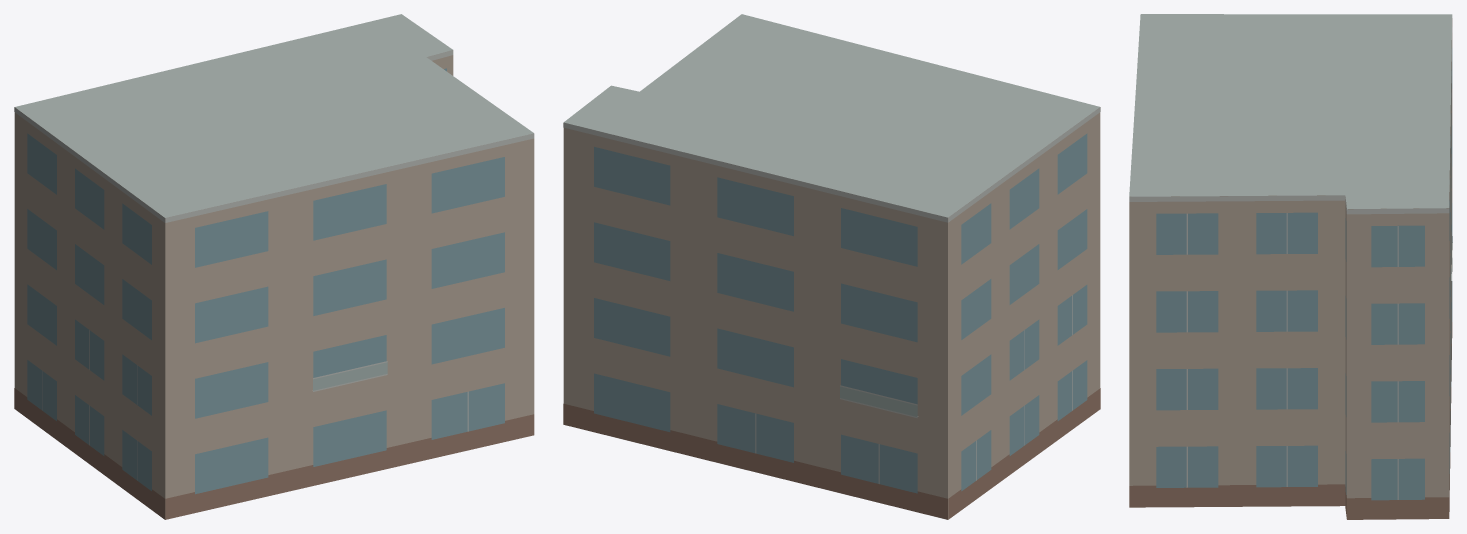
The model's file is survey-upis-32815096.glb.
3 renders of one model, left to right at view 1: azimuth 30°, elevation 25°; view 2: azimuth 150°, elevation 25°; view 3: azimuth 270°, elevation 25°, orthographic. The views are drawn at different scales.
Parts seen in each view (by area): view 1: survey-upis-32815096.tmp; view 2: survey-upis-32815096.tmp; view 3: survey-upis-32815096.tmp.
Boxes of the visible parts, left/top/right/bottom form: survey-upis-32815096.tmp: left=14, top=14, right=534, bottom=519; survey-upis-32815096.tmp: left=563, top=14, right=1100, bottom=519; survey-upis-32815096.tmp: left=1129, top=14, right=1452, bottom=519.
Bounding box in the file's own units: 19.4 × 14.4 × 13.6.
